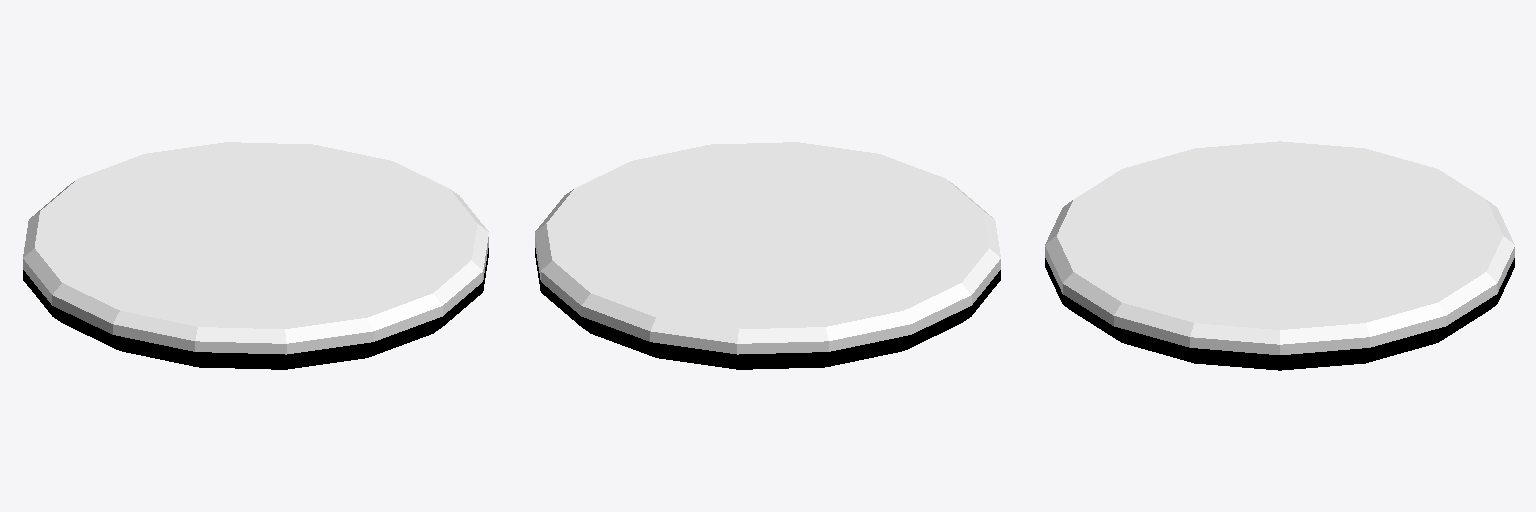
Rendered from disc.obj.
3 views of the same model, side by side, from view 1: azimuth 30°, elevation 25°; view 2: azimuth 150°, elevation 25°; view 3: azimuth 270°, elevation 25° (orthographic).
Parts seen in each view (by area): view 1: Cylinder_Cylinder.001; view 2: Cylinder_Cylinder.001; view 3: Cylinder_Cylinder.001.
Part boxes in pixels (x1,y1,x2,y2): Cylinder_Cylinder.001: (23, 142, 488, 369); Cylinder_Cylinder.001: (535, 142, 1000, 369); Cylinder_Cylinder.001: (1045, 141, 1514, 370).
Bounding box in the file's own units: 1.6 × 0.152 × 1.6.